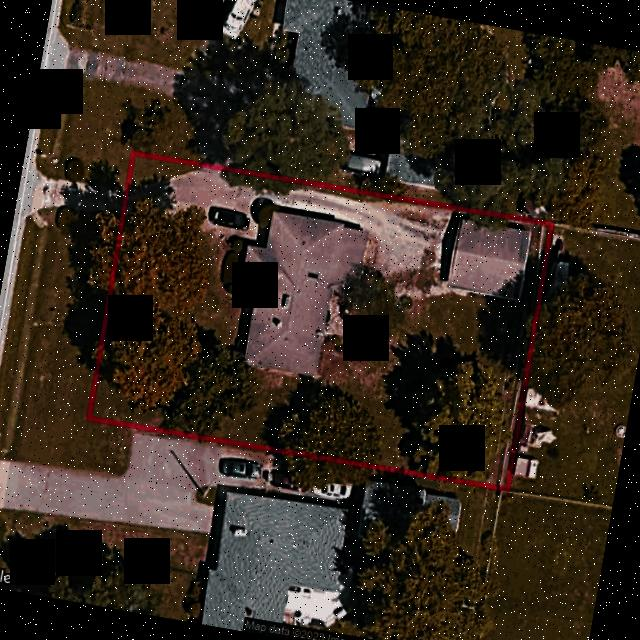Driveway: (170, 168, 461, 284), (125, 178, 179, 218)
Extra Driveway: (25, 166, 124, 217)
Extra Lawn: (18, 206, 120, 418), (0, 215, 37, 404), (36, 134, 130, 191)
Extra Sidewalk: (10, 210, 48, 406), (50, 136, 63, 163)
House: (239, 211, 367, 374)
Other: (448, 218, 531, 300)
Sidewalk: (324, 258, 371, 342)
